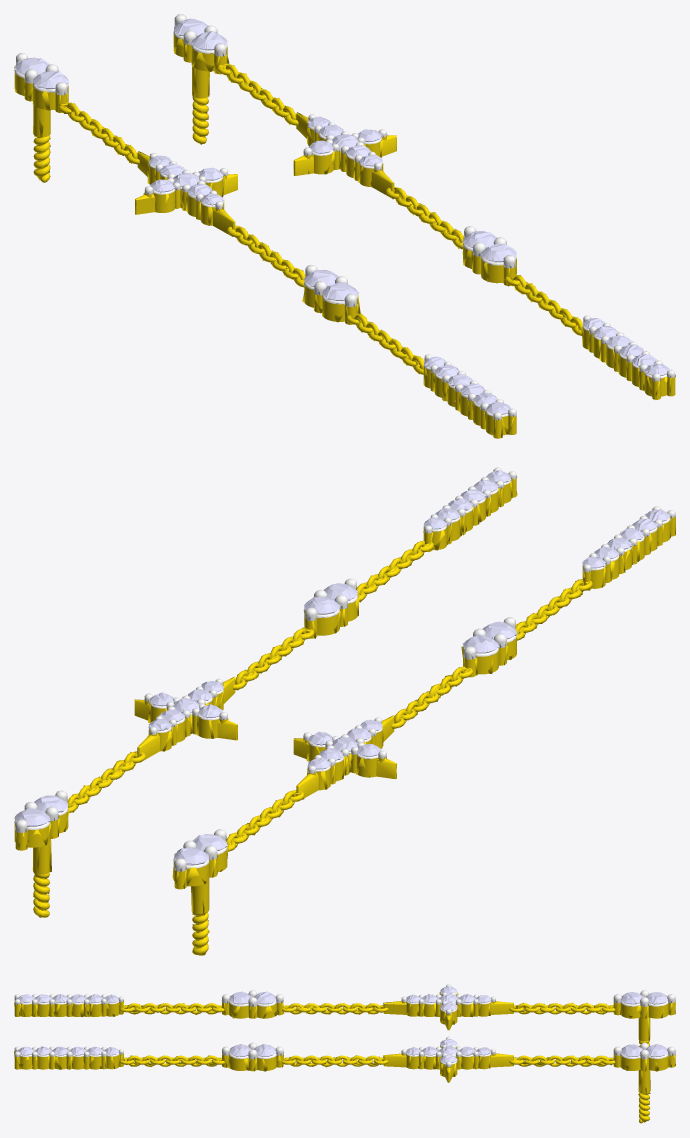
3 renders of one model, top to bottom at view 1: azimuth 30°, elevation 25°; view 2: azimuth 150°, elevation 25°; view 3: azimuth 270°, elevation 25°, orthographic. The views are drawn at different scales.
Visible parts, largest first — view 1: highPolyMesh, lowPolyMesh; view 2: highPolyMesh, lowPolyMesh; view 3: highPolyMesh, lowPolyMesh.
Boxes of the visible parts, <box> form: highPolyMesh: <box>14,14,675,438</box>; lowPolyMesh: <box>14,14,675,438</box>; highPolyMesh: <box>14,467,675,955</box>; lowPolyMesh: <box>14,467,675,955</box>; highPolyMesh: <box>14,984,675,1123</box>; lowPolyMesh: <box>14,985,675,1123</box>.
Bounding box in the file's own units: 0.0193 × 0.00805 × 0.0623.
